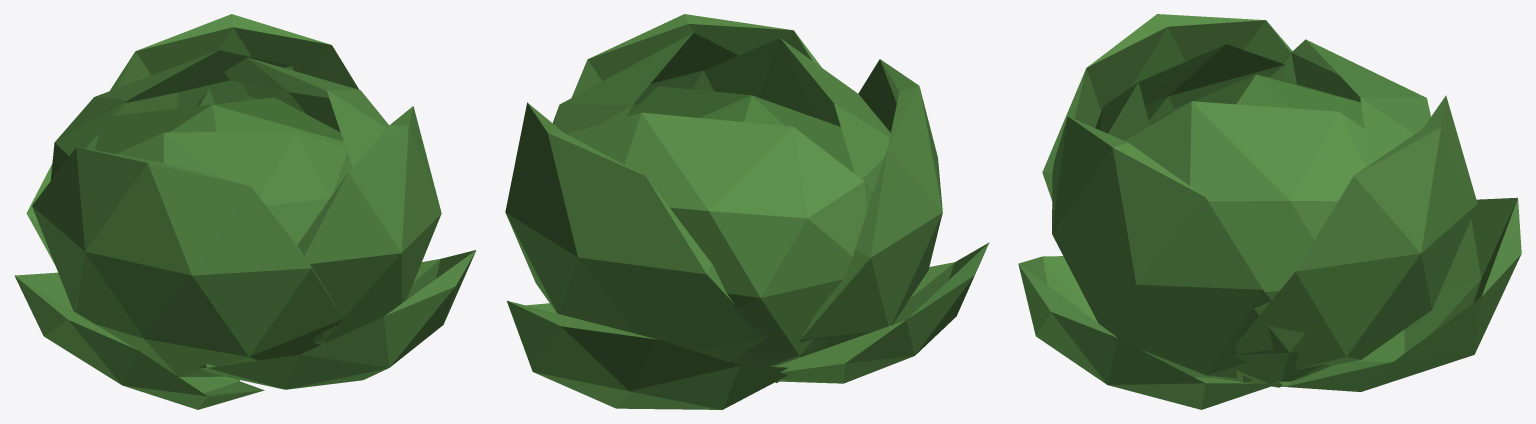
Rendered from Food_04.fbx.
The picture shows the model from 3 angles, left to right: view 1: azimuth 30°, elevation 25°; view 2: azimuth 150°, elevation 25°; view 3: azimuth 270°, elevation 25°; orthographic projection. The views are drawn at different scales.
Visible parts, largest first — view 1: Food_04; view 2: Food_04; view 3: Food_04.
Part boxes in pixels (<box>): Food_04: <box>14,14,476,409</box>; Food_04: <box>505,14,989,409</box>; Food_04: <box>1018,14,1521,409</box>.
Bounding box in the file's own units: 22.89 × 16.08 × 24.33.
